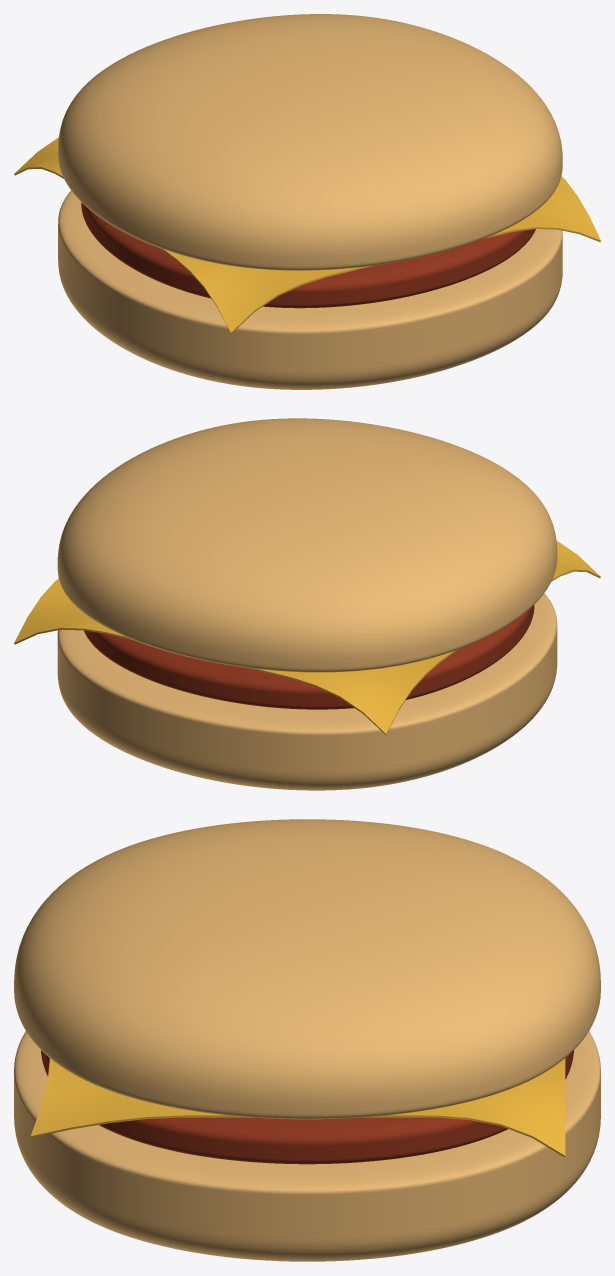
Rendered from hamburger.glb.
3 renders of one model, top to bottom at view 1: azimuth 30°, elevation 25°; view 2: azimuth 150°, elevation 25°; view 3: azimuth 270°, elevation 25°, orthographic. The views are drawn at different scales.
Visible parts, largest first — view 1: Cube.002, Cube, Cube.001, Plane; view 2: Cube.002, Cube, Cube.001, Plane; view 3: Cube.002, Cube, Cube.001, Plane.
Part boxes in pixels (x1,y1,x2,y2): Cube.002: [58, 14, 562, 270]; Cube: [58, 190, 562, 389]; Cube.001: [81, 202, 535, 308]; Plane: [14, 137, 600, 333]; Cube.002: [57, 418, 557, 672]; Cube: [57, 593, 557, 790]; Cube.001: [84, 605, 534, 709]; Plane: [14, 541, 600, 734]; Cube.002: [14, 819, 600, 1119]; Cube: [14, 1031, 600, 1261]; Cube.001: [41, 1050, 573, 1164]; Plane: [30, 1058, 565, 1156].
Bounding box in the file's own units: 9.2 × 4.86 × 9.2.
